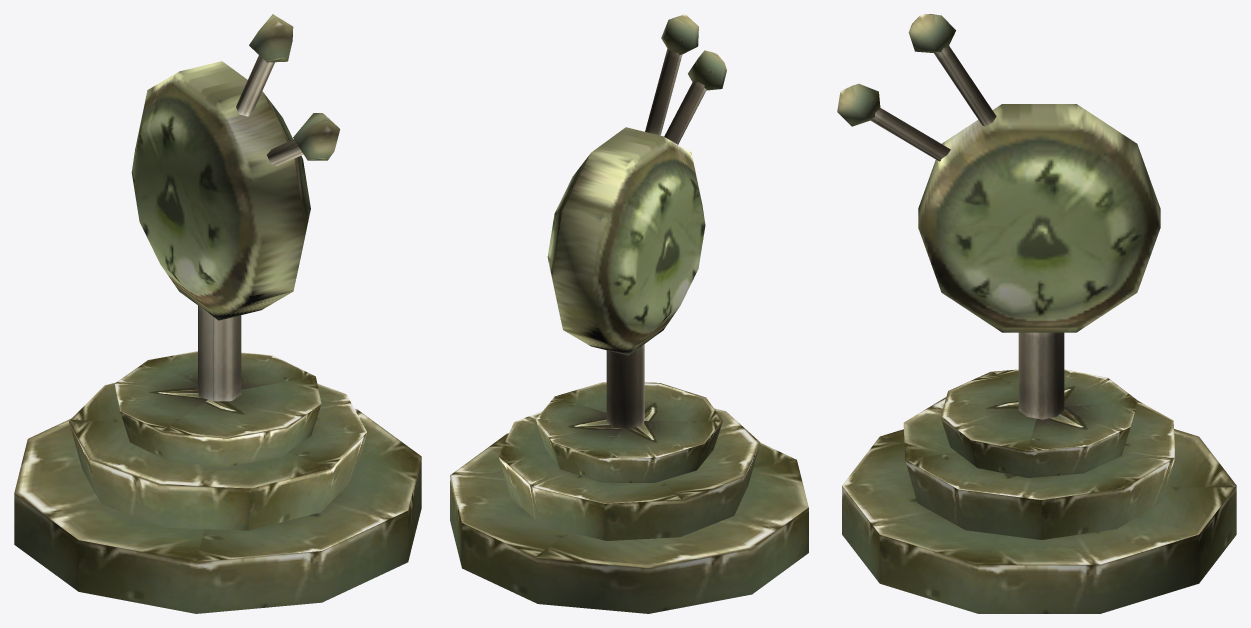
File: undead_meter.obj
3 renders of one model, left to right at view 1: azimuth 30°, elevation 25°; view 2: azimuth 150°, elevation 25°; view 3: azimuth 270°, elevation 25°, orthographic. The views are drawn at different scales.
Parts seen in each view (by area): view 1: UNDEAD_METER0; view 2: UNDEAD_METER0; view 3: UNDEAD_METER0.
Part boxes in pixels (x1=…): UNDEAD_METER0: x1=14, y1=14, x2=421, y2=613; UNDEAD_METER0: x1=450, y1=14, x2=808, y2=613; UNDEAD_METER0: x1=837, y1=14, x2=1236, y2=613.
Bounding box in the file's own units: 0.8936 × 1.37 × 0.9512.
Materials: 1 (1 with a texture image).
